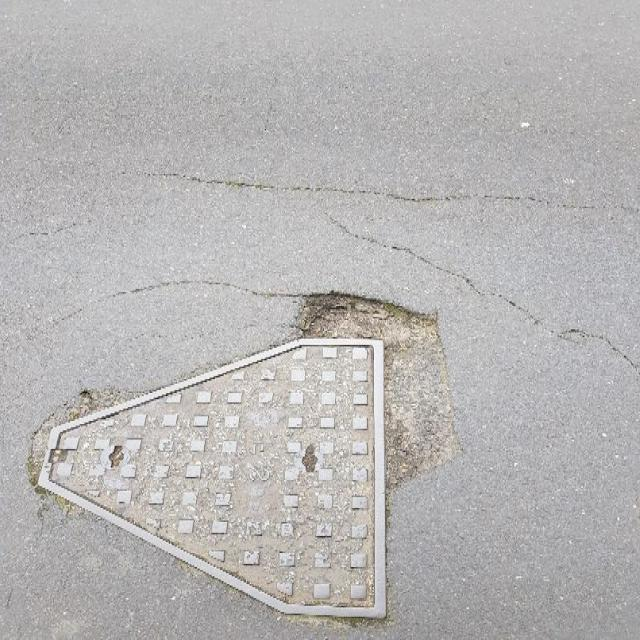Pothole: (295, 281, 463, 494)
